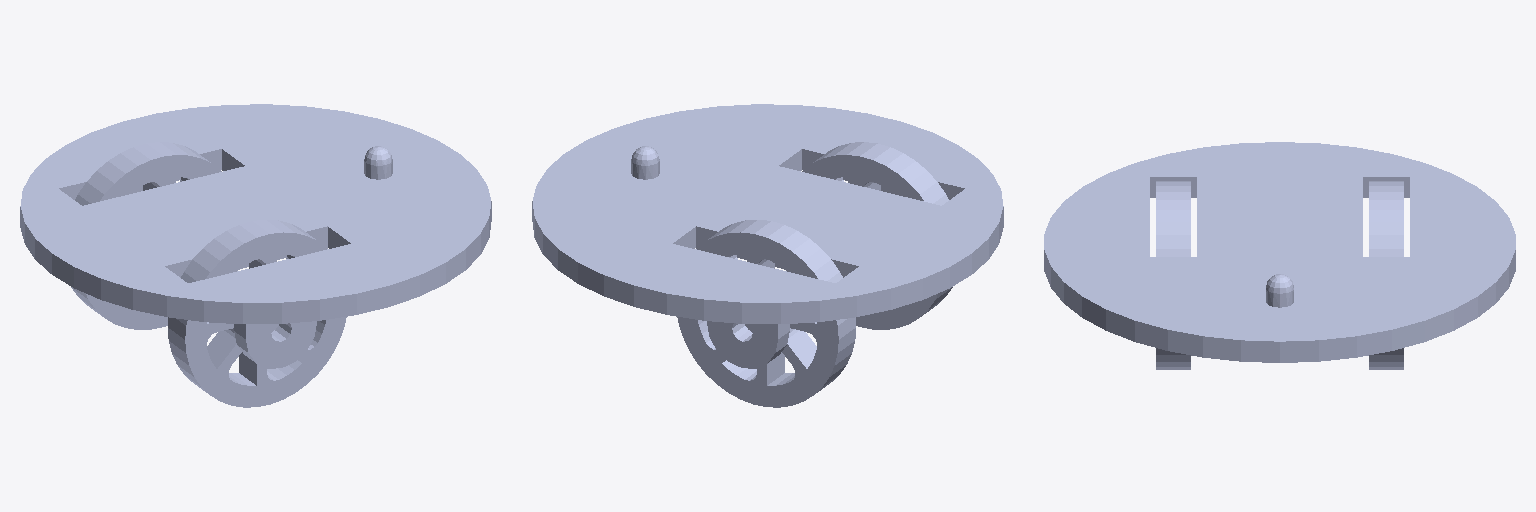
robot.urdf — sweep_robot:
<?xml version="1.0" encoding="utf-8"?>
<!-- This URDF was automatically created by SolidWorks to URDF Exporter! Originally created by [author] ([email redacted]) 
     Commit Version: 1.5.1-0-g916b5db  Build Version: 1.5.7152.31018
     For more information, please see http://wiki.ros.org/sw_urdf_exporter -->
<robot
  name="sweep_robot">

  <!-- Dummy Link -->
  <link name="base_footprint" />

  <joint name="base_footprint_joint" type="fixed">
    <parent link="base_footprint" />
    <child link="base_link" />
  </joint>

  <link
    name="base_link">
    <inertial>
      <origin
        xyz="0.026198 -2.3852E-17 0.061154"
        rpy="0 0 0" />
      <mass
        value="0.35365" />
      <inertia
        ixx="0.00080538"
        ixy="-9.2115E-20"
        ixz="-1.1752E-05"
        iyy="0.00077943"
        iyz="-2.2416E-20"
        izz="0.0015596" />
    </inertial>
    <visual>
      <origin
        xyz="0 0 0"
        rpy="0 0 0" />
      <geometry>
        <mesh
          filename="package://sweep_robot/meshes/base_link.STL" />
      </geometry>
      <material
        name="">
        <color
          rgba="0.79216 0.81961 0.93333 1" />
      </material>
    </visual>
    <collision>
      <origin
        xyz="0 0 0"
        rpy="0 0 0" />
      <geometry>
        <mesh
          filename="package://sweep_robot/meshes/base_link.STL" />
      </geometry>
      <surface>
        <friction>
          <ode>
            <mu>0</mu>
            <mu2>0</mu2>
            <slip1>1.0</slip1>
            <slip2>1.0</slip2>
          </ode>
        </friction>
      </surface>
    </collision>
  </link>
  <link
    name="left_wheel">
    <inertial>
      <origin
        xyz="0.0825 1.1276E-17 6.9389E-18"
        rpy="0 0 0" />
      <mass
        value="0.050809" />
      <inertia
        ixx="4.7592E-05"
        ixy="6.648E-23"
        ixz="1.0906E-22"
        iyy="2.4749E-05"
        iyz="-6.7208E-21"
        izz="2.4749E-05" />
    </inertial>
    <visual>
      <origin
        xyz="0 0 0"
        rpy="0 0 0" />
      <geometry>
        <mesh
          filename="package://sweep_robot/meshes/left_wheel.STL" />
      </geometry>
      <material
        name="">
        <color
          rgba="0.79216 0.81961 0.93333 1" />
      </material>
    </visual>
    <collision>
      <origin
        xyz="0 0 0"
        rpy="0 0 0" />
      <geometry>
        <mesh
          filename="package://sweep_robot/meshes/left_wheel.STL" />
      </geometry>
    </collision>
  </link>
  <joint
    name="left_wheel_joint"
    type="continuous">
    <origin
      xyz="0 0.0375 0.04"
      rpy="1.5708 0 -1.5708" />
    <parent
      link="base_link" />
    <child
      link="left_wheel" />
    <axis
      xyz="1 0 0" />
  </joint>
  <link
    name="right_wheel">
    <inertial>
      <origin
        xyz="-0.0825 1.0408E-17 1.0408E-17"
        rpy="0 0 0" />
      <mass
        value="0.050809" />
      <inertia
        ixx="4.7592E-05"
        ixy="6.648E-23"
        ixz="1.0906E-22"
        iyy="2.4749E-05"
        iyz="-6.7677E-21"
        izz="2.4749E-05" />
    </inertial>
    <visual>
      <origin
        xyz="0 0 0"
        rpy="0 0 0" />
      <geometry>
        <mesh
          filename="package://sweep_robot/meshes/right_wheel.STL" />
      </geometry>
      <material
        name="">
        <color
          rgba="0.79216 0.81961 0.93333 1" />
      </material>
    </visual>
    <collision>
      <origin
        xyz="0 0 0"
        rpy="0 0 0" />
      <geometry>
        <mesh
          filename="package://sweep_robot/meshes/right_wheel.STL" />
      </geometry>
    </collision>
  </link>
  <joint
    name="right_wheel_joint"
    type="continuous">
    <origin
      xyz="0 -0.0375 0.04"
      rpy="1.5708 0 -1.5708" />
    <parent
      link="base_link" />
    <child
      link="right_wheel" />
    <axis
      xyz="1 0 0" />
  </joint>


  <!-- Differential Drive Controller -->
  <gazebo>
    <plugin name="differential_drive_controller" filename="libgazebo_ros_diff_drive.so">
      <legacyMode>false</legacyMode>
      <alwaysOn>true</alwaysOn>
      <updateRate>10</updateRate>
      <leftJoint>left_wheel_joint</leftJoint>
      <rightJoint>right_wheel_joint</rightJoint>
      <wheelSeparation>0.09</wheelSeparation>
      <wheelDiameter>0.08</wheelDiameter>
      <torque>5</torque>
      <commandTopic>cmd_vel</commandTopic>
      <odometryTopic>odom</odometryTopic>
      <odometryFrame>odom</odometryFrame>
      <robotBaseFrame>base_footprint</robotBaseFrame>
    </plugin>
  </gazebo>

  <!-- Hokuyo Laser -->
  <link name="hokuyo_link">
    <collision>
      <origin xyz="0 0 0" rpy="0 0 0"/>
      <geometry>
    <box size="0.1 0.1 0.1"/>
      </geometry>
    </collision>

    <visual>
      <origin xyz="0 0 0" rpy="0 0 0"/>
      <geometry>
        <mesh filename="package://sweep_robot/meshes/hokuyo.dae"/>
      </geometry>
    </visual>

    <inertial>
      <mass value="0.0015" />
      <origin xyz="0 0 0" rpy="0 0 0"/>
      <inertia ixx="1e-6" ixy="0" ixz="0" iyy="1e-6" iyz="0" izz="1e-6" />
    </inertial>
  </link>

  <joint name="hokuyo_joint" type="fixed">
    <origin xyz="0.04 0 -0.1525" rpy="3.142857143 0 0"/>
    <parent link="base_link"/>
    <child link="hokuyo_link"/>
  </joint>

  <!-- Hokuyo Laser Sensor -->
  <gazebo reference="hokuyo_link">
    <sensor type="gpu_ray" name="head_hokuyo_sensor">
      <pose>0 0 0 0 0 0</pose>
      <visualize>false</visualize>
      <update_rate>40</update_rate>
      <ray>
        <scan>
          <horizontal>
            <samples>720</samples>
            <resolution>1</resolution>
            <min_angle>-1.570796</min_angle>
            <max_angle>1.570796</max_angle>
          </horizontal>
        </scan>
        <range>
          <min>0.10</min>
          <max>30.0</max>
          <resolution>0.01</resolution>
        </range>
        <noise>
          <type>gaussian</type>
          <!-- Noise parameters based on published spec for Hokuyo laser
               achieving "+-30mm" accuracy at range < 10m.  A mean of 0.0m and
               stddev of 0.01m will put 99.7% of samples within 0.03m of the true
               reading. -->
          <mean>0.0</mean>
          <stddev>0.01</stddev>
        </noise>
      </ray>
      <plugin name="gazebo_ros_head_hokuyo_controller" filename="libgazebo_ros_gpu_laser.so">
        <topicName>/scan</topicName>
        <frameName>hokuyo_link</frameName>
      </plugin>
    </sensor>
  </gazebo>

</robot>

--- Facts derived from the render (not from the file) ---
3 views of the same robot in one strip: view 1: azimuth 30°, elevation 25°; view 2: azimuth 150°, elevation 25°; view 3: azimuth 270°, elevation 25° (orthographic).
Model sweep_robot with 5 links and 4 joints (2 continuous, 2 fixed), rooted at base_footprint, posed every joint at zero.
Links seen in each view (by area): view 1: base_link, left_wheel, right_wheel; view 2: base_link, right_wheel, left_wheel; view 3: base_link, left_wheel, right_wheel.
Boxes of the visible links, x1,y1,x2,y2 form: base_link: (20, 104, 491, 368); left_wheel: (168, 220, 346, 407); right_wheel: (71, 142, 221, 329); base_link: (532, 104, 1003, 368); right_wheel: (677, 220, 855, 407); left_wheel: (802, 142, 952, 329); base_link: (1044, 142, 1515, 362); left_wheel: (1156, 181, 1190, 369); right_wheel: (1369, 181, 1403, 369).
Size in the robot's own frame: 0.2 by 0.1993 by 0.08 metres.
3 mesh visuals loaded from 4 distinct referenced files (3 binary STL); not drawn: 1 (reference not matched to a file when rendering).
